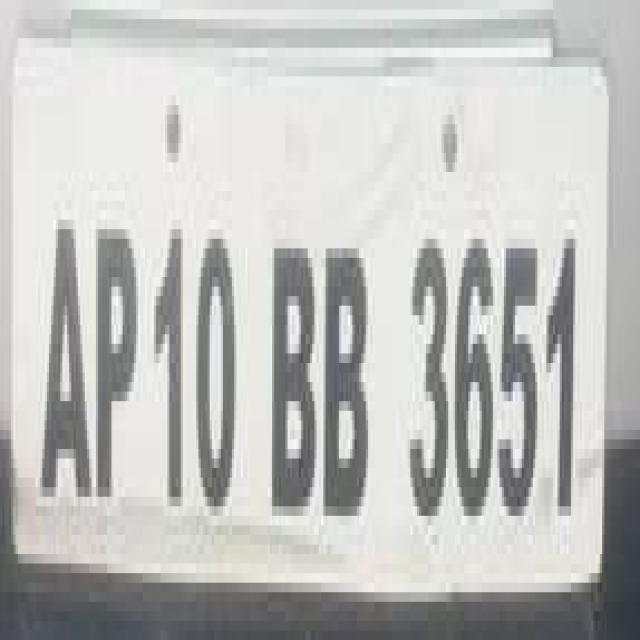license_plate: (0, 9, 615, 640)
